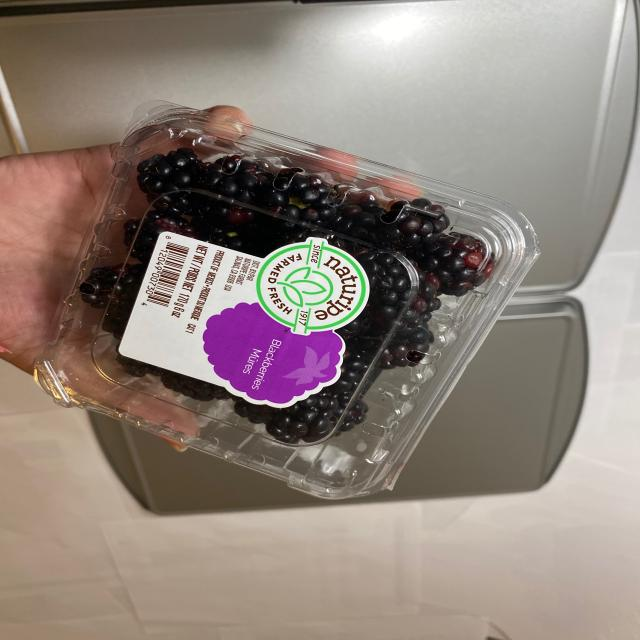blackberries: (65, 122, 526, 512)
